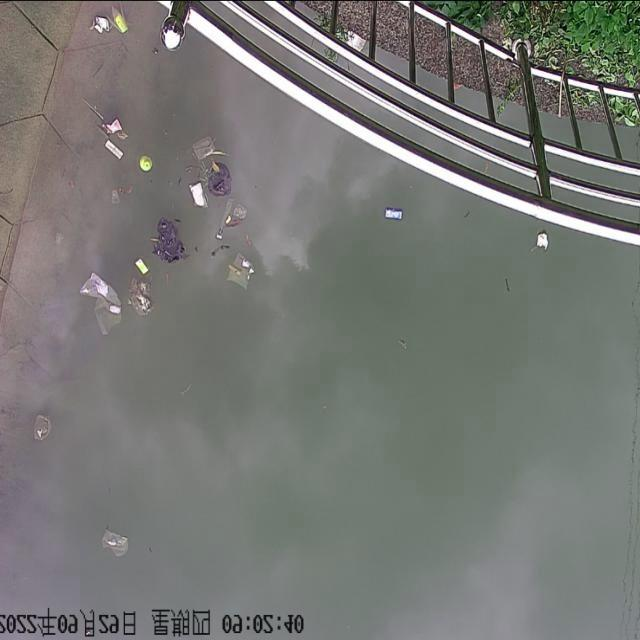Plastic: (183, 174, 208, 219), (96, 135, 132, 165), (84, 9, 115, 38), (375, 203, 412, 227), (529, 225, 558, 255), (99, 113, 135, 135)
Trash: (78, 262, 124, 342), (216, 245, 259, 294), (126, 276, 165, 324), (152, 218, 188, 263), (212, 198, 249, 239), (94, 525, 132, 564), (204, 168, 243, 198), (186, 140, 232, 165), (26, 410, 57, 447)
